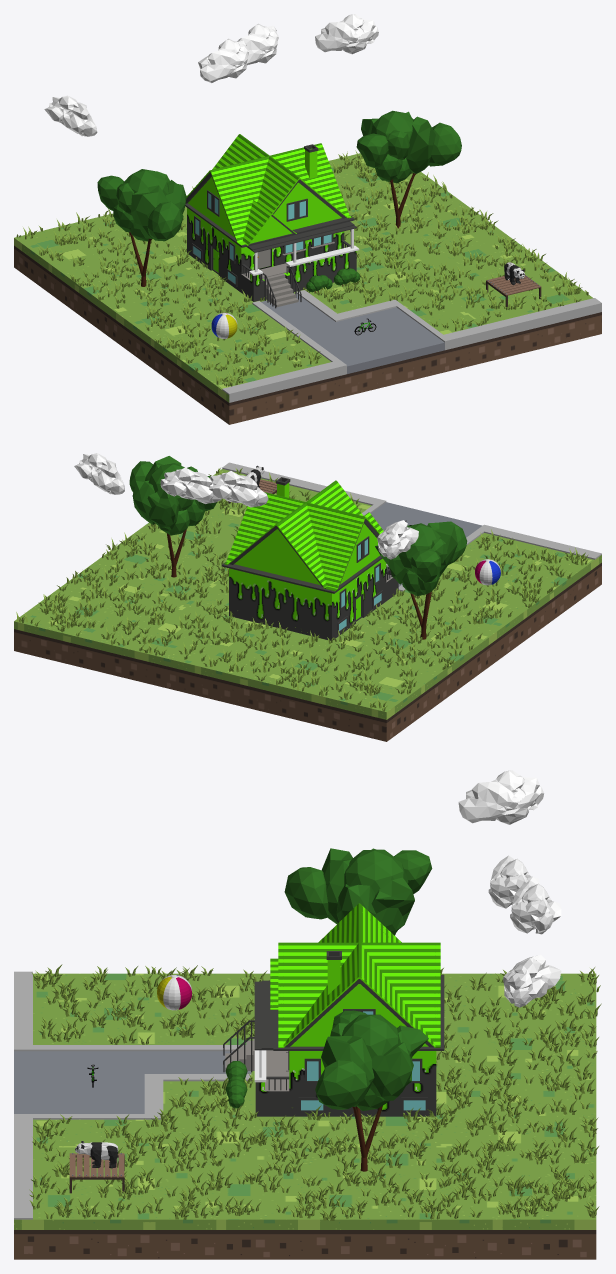
3 views of the same model, one above another, from view 1: azimuth 30°, elevation 25°; view 2: azimuth 150°, elevation 25°; view 3: azimuth 270°, elevation 25° (orthographic). The views are drawn at different scales.
Parts seen in each view (by area): view 1: Cube.006, Cube.754, Circle.012_Grass_0.192, Cube.007, tree, tree.001, Cube.009, OBJRANDOM_BEACHBALL; view 2: Cube.006, Cube.754, Circle.012_Grass_0.192, Cube.007, tree.001, tree, OBJRANDOM_BEACHBALL; view 3: Cube.006, Circle.012_Grass_0.192, Cube.754, tree, Cube.007, tree.001, Cube.009, OBJRANDOM_BEACHBALL, ANIMAL_PANDA.
Part boxes in pixels (x1,y1,x2,y2): Cube.006: (14, 153, 601, 424); Cube.754: (185, 134, 359, 308); Circle.012_Grass_0.192: (16, 150, 588, 386); Cube.007: (44, 14, 378, 136); tree: (356, 110, 461, 228); tree.001: (97, 169, 186, 286); Cube.009: (486, 275, 541, 306); OBJRANDOM_BEACHBALL: (211, 312, 237, 338); Cube.006: (14, 462, 601, 741); Cube.754: (221, 477, 398, 640); Circle.012_Grass_0.192: (16, 468, 588, 711); Cube.007: (74, 453, 418, 559); tree.001: (375, 521, 467, 639); tree: (129, 456, 216, 577); OBJRANDOM_BEACHBALL: (475, 559, 500, 585); Cube.006: (14, 971, 596, 1259); Circle.012_Grass_0.192: (29, 964, 601, 1220); Cube.754: (223, 903, 444, 1116); tree: (315, 1010, 428, 1171); Cube.007: (458, 770, 561, 1007); tree.001: (284, 848, 432, 935); Cube.009: (69, 1153, 124, 1193); OBJRANDOM_BEACHBALL: (157, 975, 191, 1010); ANIMAL_PANDA: (75, 1141, 118, 1168).
Bounding box in the file's own units: 4071 × 2277 × 4040.
Materials: 30 (4 with a texture image).
